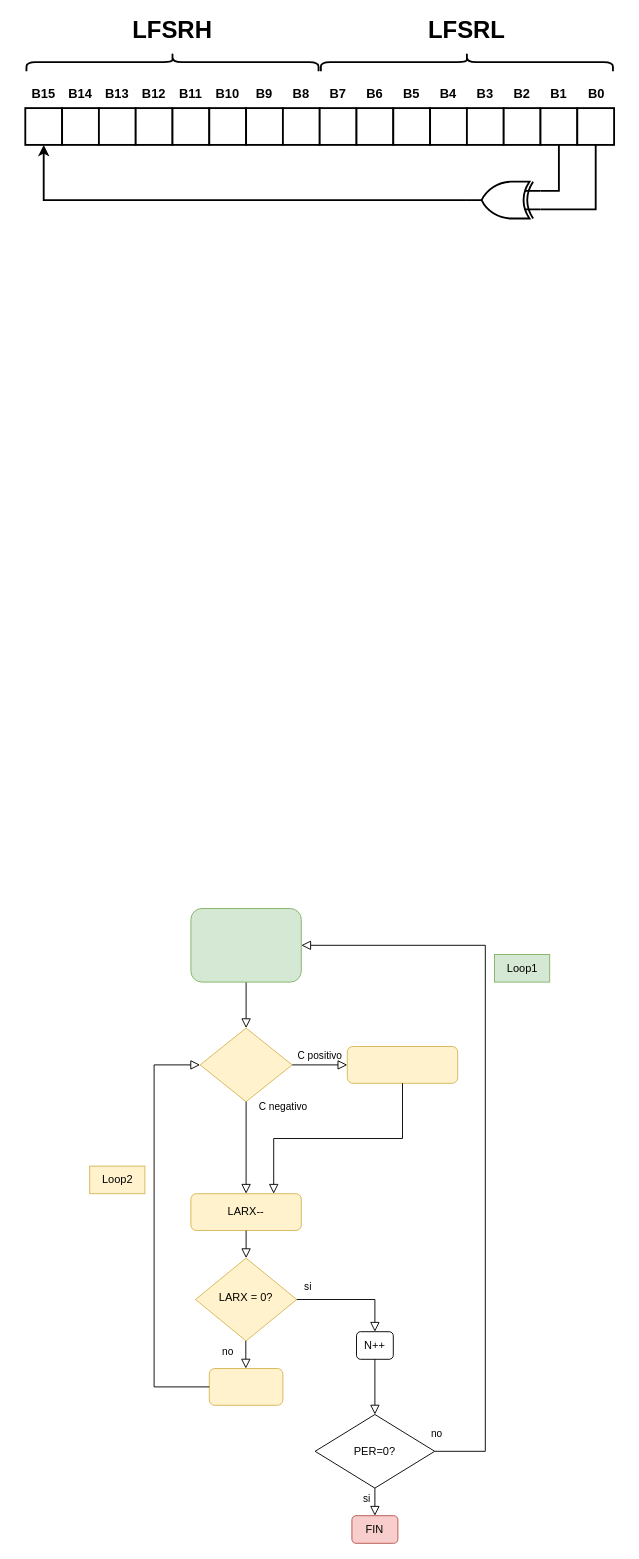
Image size: 639x1559. Some labels were removed from this diagram. The shapes that lost their labels are listed below. From the top down, each one's centre as x and y in pixels, then its label:
At point (245, 945): "Reinicio variables: -PER=0 -LARX = LAR - N Y=0x100".
At point (245, 1064): "(Y) - (Y+1) = C".
At point (402, 1064): "-Permuto (Y) y (Y+1) -PER++".
At point (245, 1386): "Y++".
